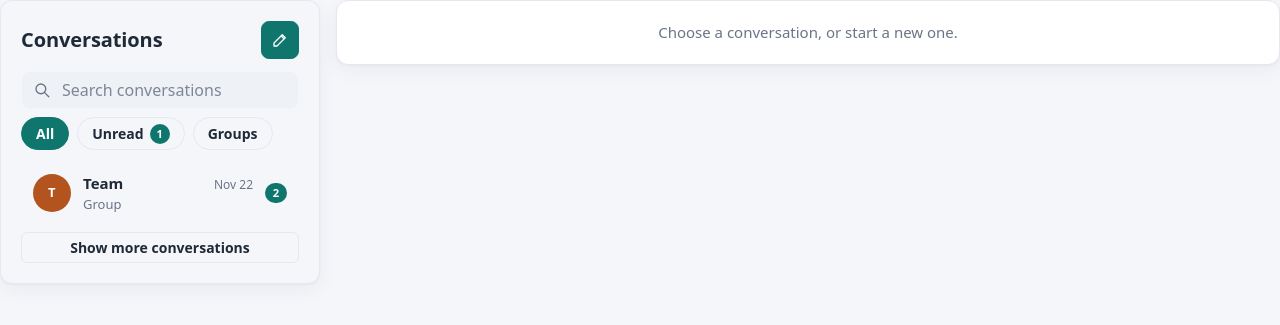
Test case: ConversationsPage › loads the list a page at a time
Expected: the button "T Team Nov 22 Group 2" is shown, [21,162,299,224]
Expected: the button "Old friends" is not shown
Click the button "Show more conversations".
click(160, 248)  # box [21,232,299,263]
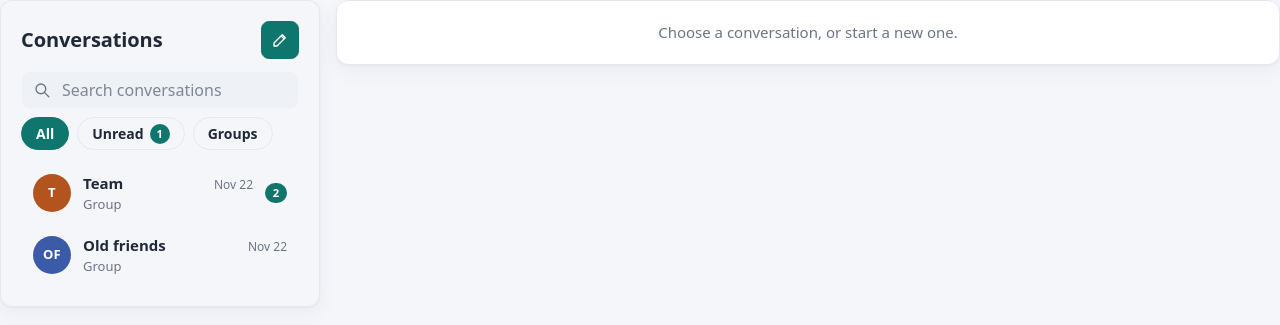
Expected: the button "OF Old friends Nov 22 Group" is shown, [21,224,299,286]
Expected: the button "Show more conversations" is gone
